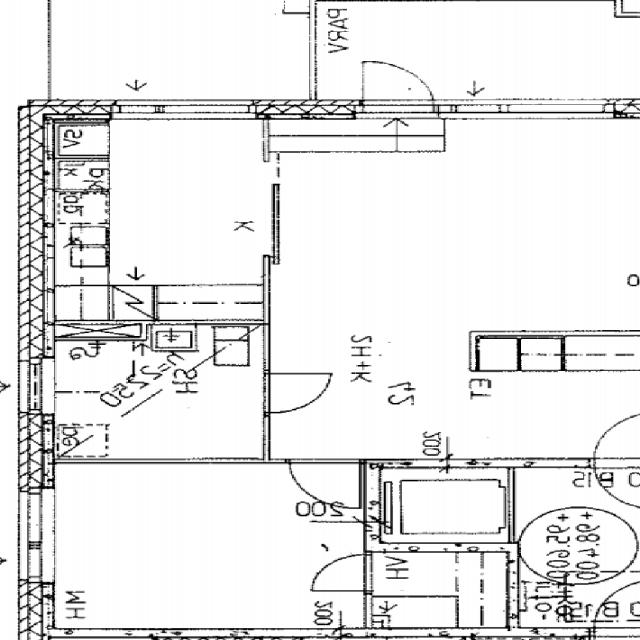door: (364, 53, 434, 118), (291, 460, 362, 509), (264, 373, 329, 412), (595, 412, 640, 467), (595, 460, 640, 515), (310, 554, 371, 590)
